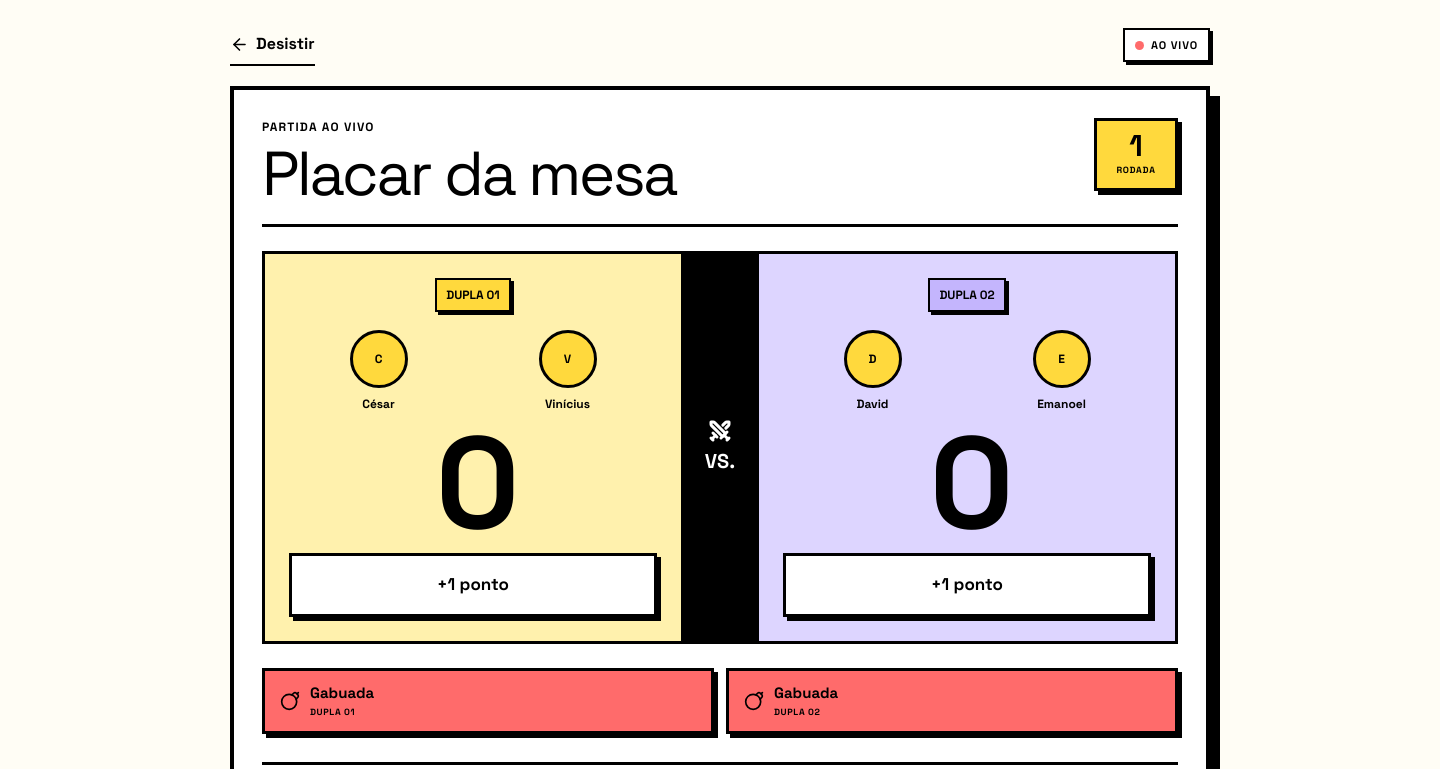
it: LiveGame › encerra normalmente quando uma dupla chega a quatro pontos
Click the button "+1 ponto" below "César": click(473, 585) [289,553,657,617]
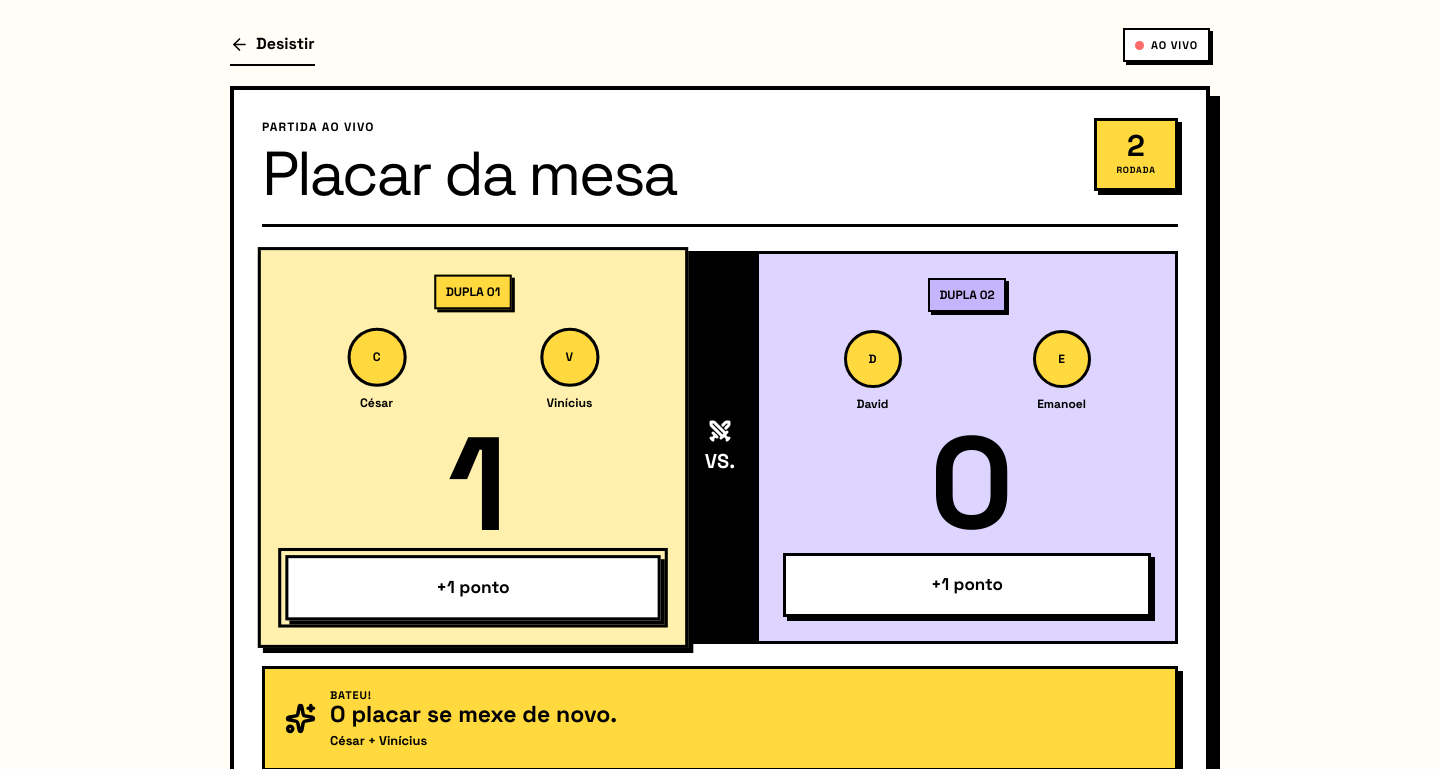
Click the 1st button "+1 ponto": click(473, 588) [285,555,661,620]
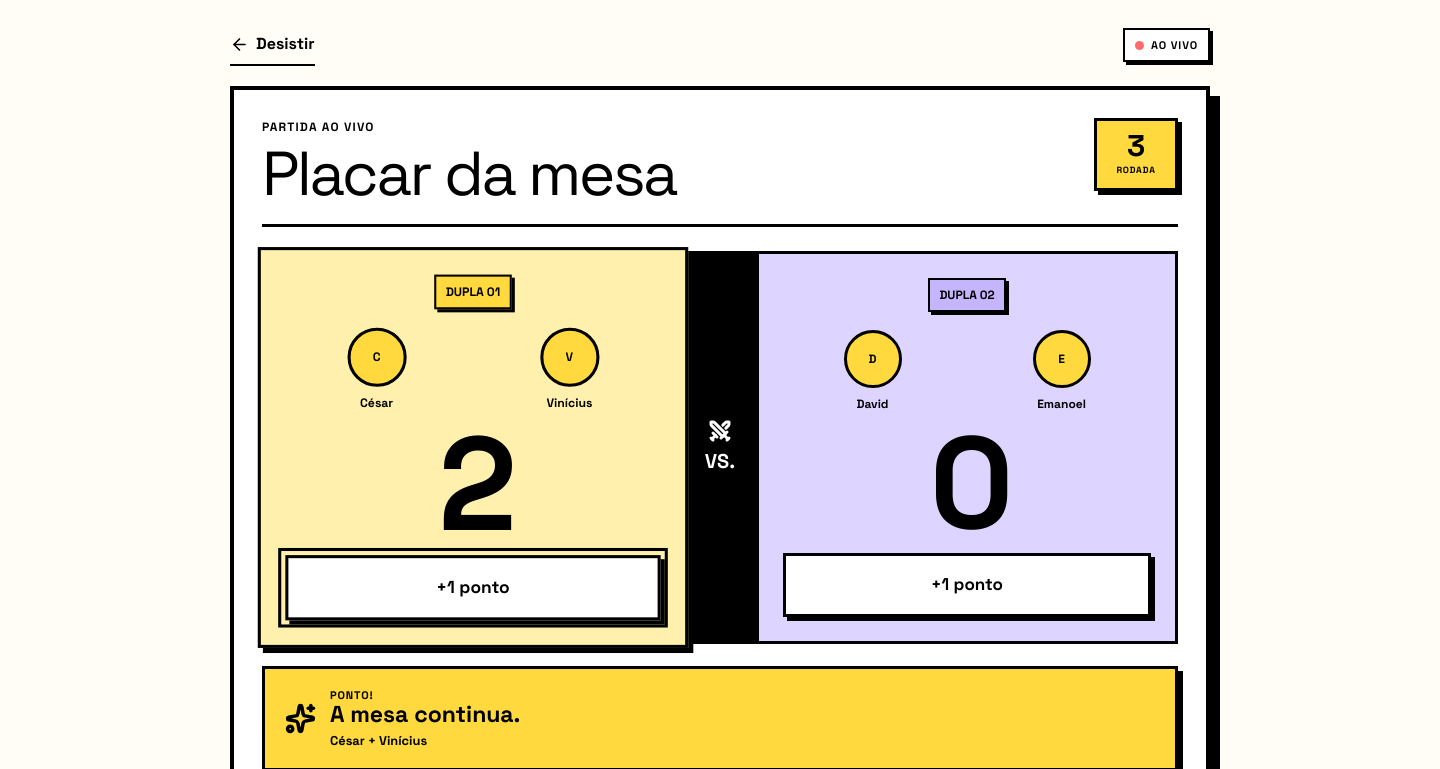
Click the 1st button "+1 ponto": click(473, 588) [285,555,661,620]
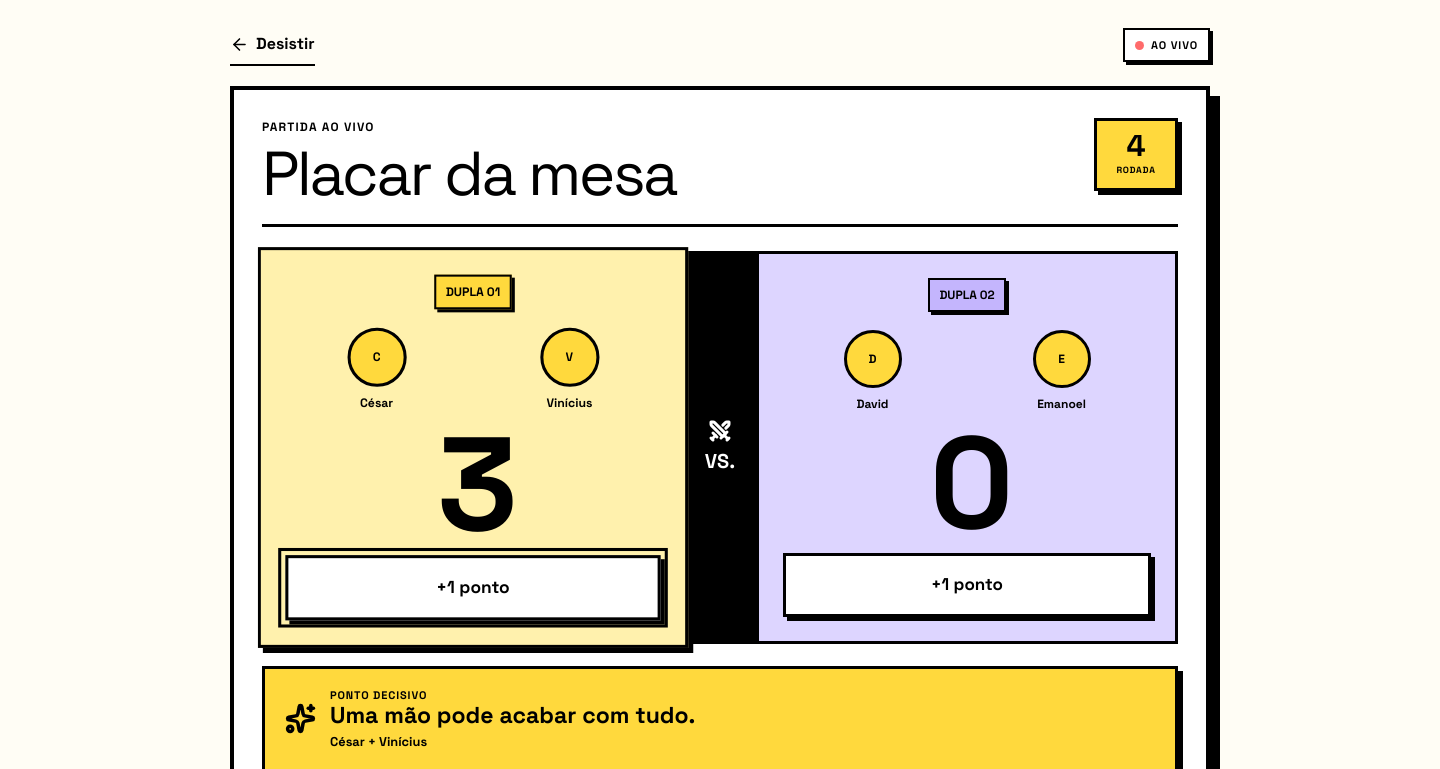
Click the 1st button "+1 ponto": click(473, 588) [285,555,661,620]
(page scrolled)
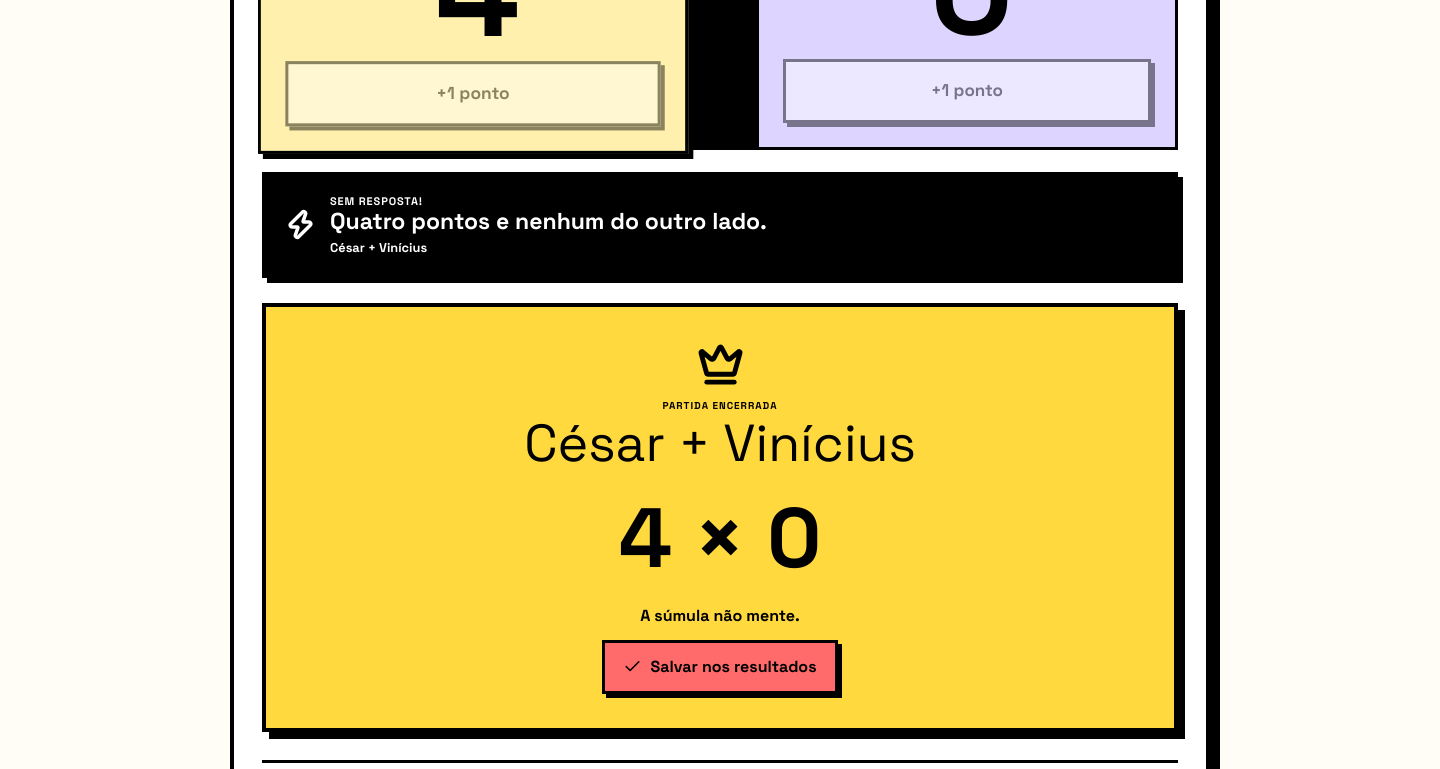
Now the text "Partida encerrada" is shown, box [662,398,778,414]
